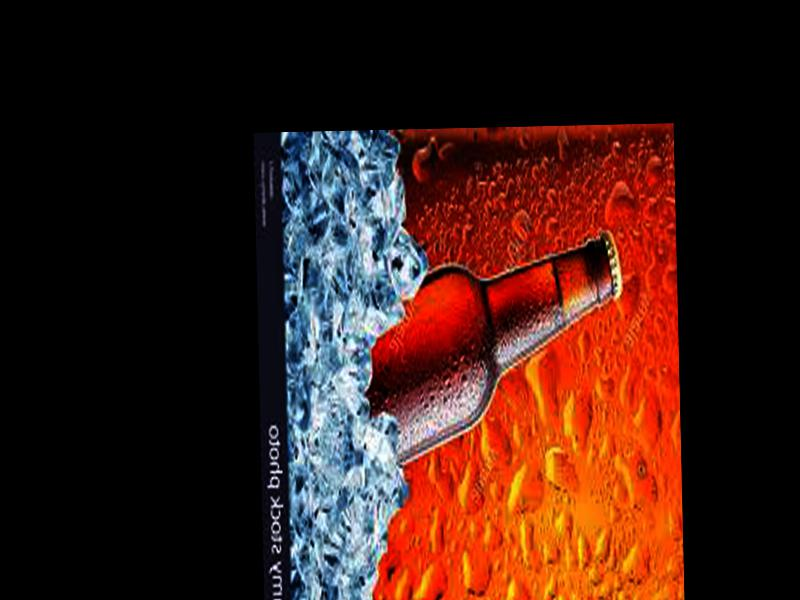Beer: (360, 217, 626, 462)
